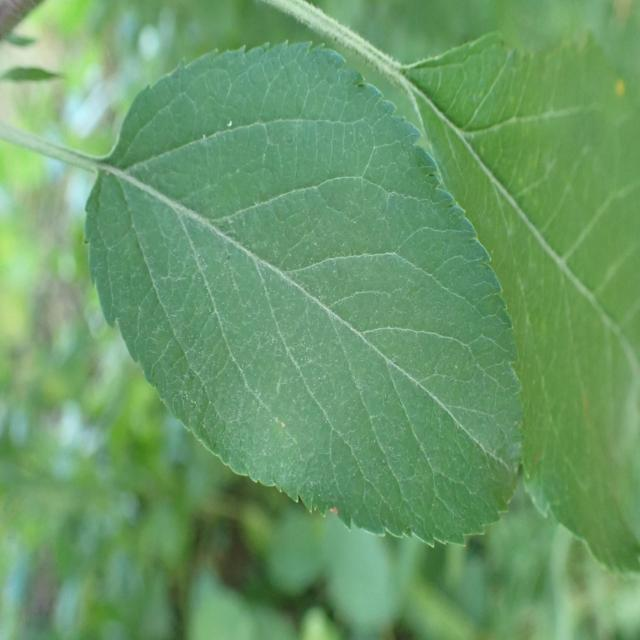healthy: (85, 36, 527, 549), (398, 28, 640, 576)
